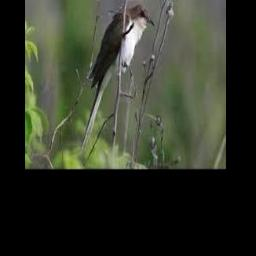Cuckoo: (80, 3, 155, 155)
